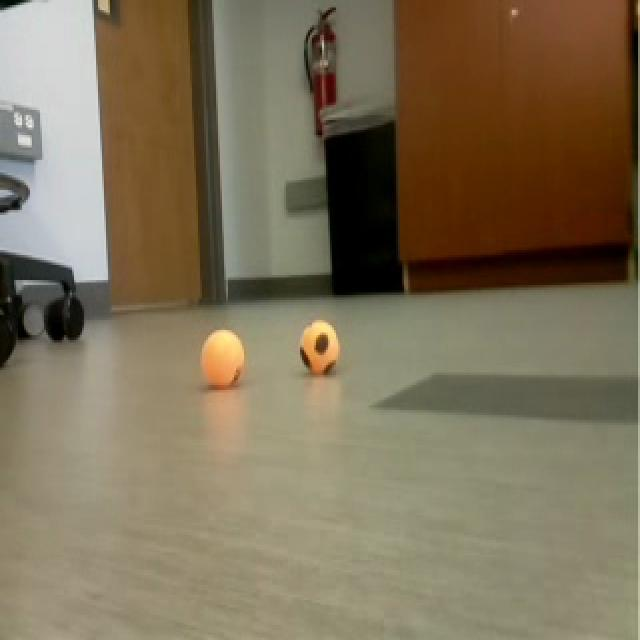oball: (198, 322, 251, 398)
